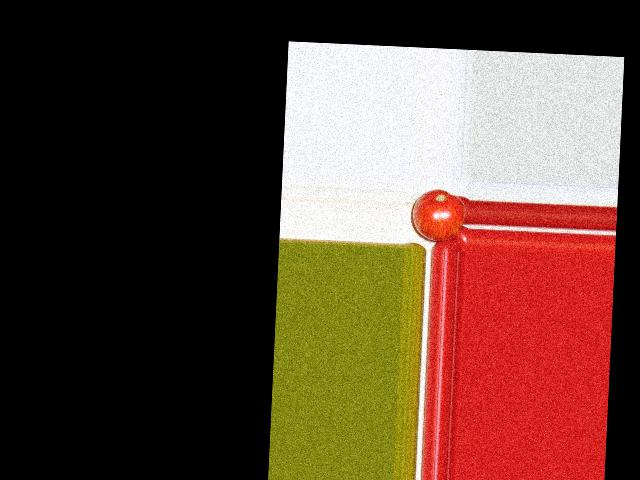tomato: (411, 187, 466, 242)
